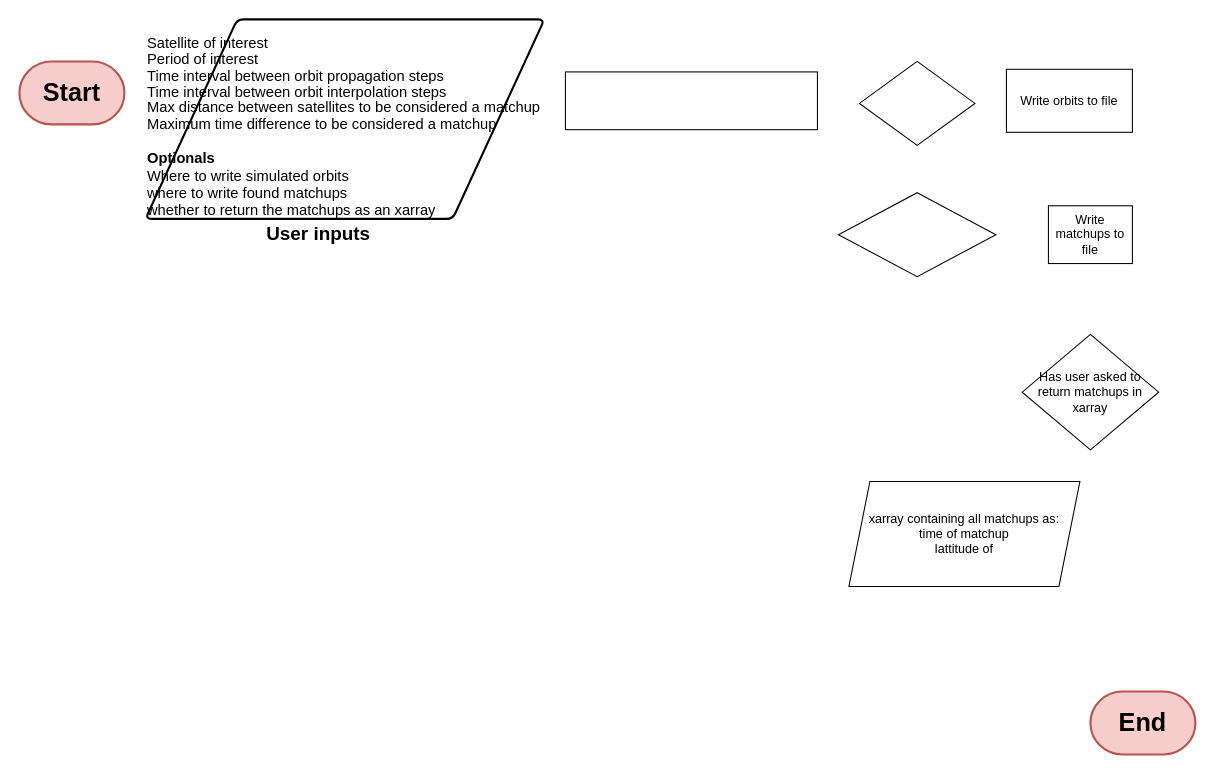
Image size: 1214x773. Some labels were removed from this diagram. The box of each missing label's shape, as (x1, y1, x2, y2) in pixels:
Has user asked to save matchups?: (837, 192, 996, 277)
orbitx.interface.return_matchups: (564, 71, 817, 130)
User asked to save orbit?: (858, 60, 975, 145)
